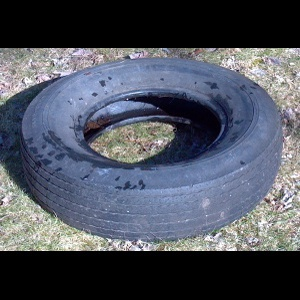tire: (21, 57, 283, 242)
